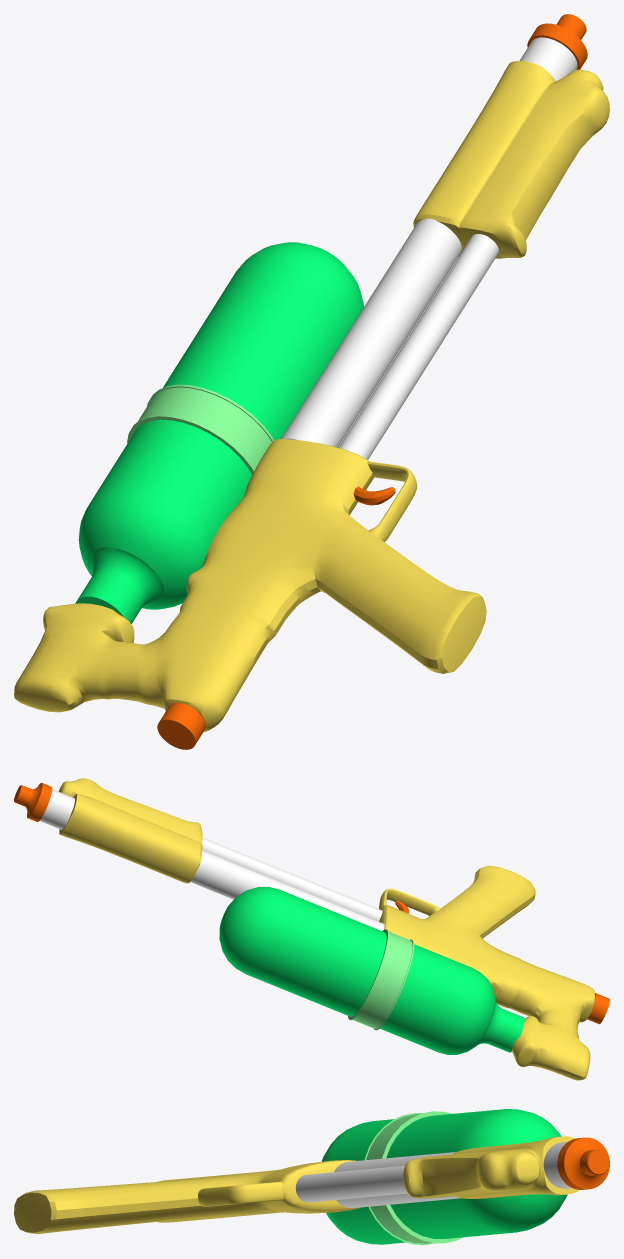
The model's file is Super_Soaker.glb.
3 views of the same model, one above another, from view 1: azimuth 30°, elevation 25°; view 2: azimuth 150°, elevation 25°; view 3: azimuth 270°, elevation 25° (orthographic). The views are drawn at different scales.
Parts seen in each view (by area): view 1: SuperSoaker; view 2: SuperSoaker; view 3: SuperSoaker.
Part boxes in pixels (box(x1,y1,x2,y2)): SuperSoaker: box(14, 14, 609, 749); SuperSoaker: box(14, 778, 609, 1080); SuperSoaker: box(14, 1109, 609, 1244).
Bounding box in the file's own units: 1.34 × 0.711 × 1.08.
1 material, 1 textured.
